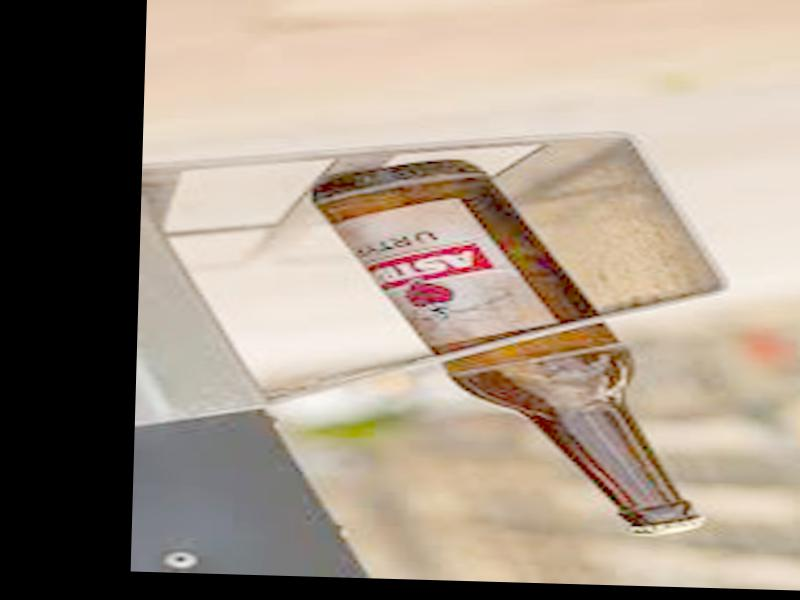Beer: (297, 154, 718, 539)
